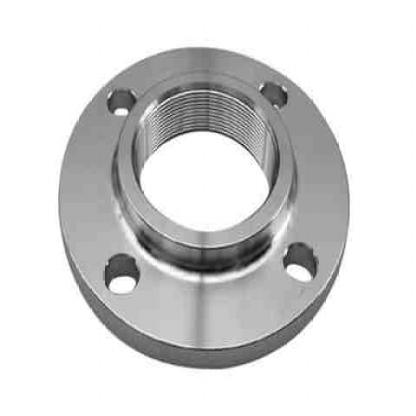FOD: (53, 41, 353, 374)
